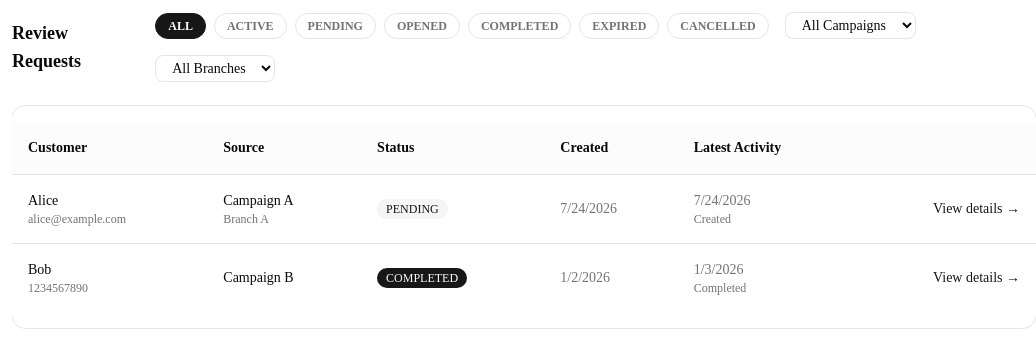
Scenario: ReviewRequestTable › filters by status
Click the button "COMPLETED" at (520,26), box x1=468 y1=12 x2=571 y2=38
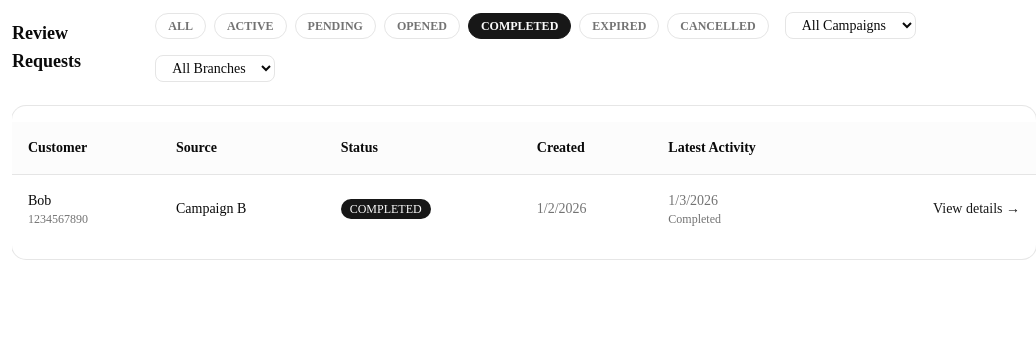
Expected: the text "Bob" is shown, x1=28 y1=193 x2=51 y2=208
Result: the text "Alice" is gone
